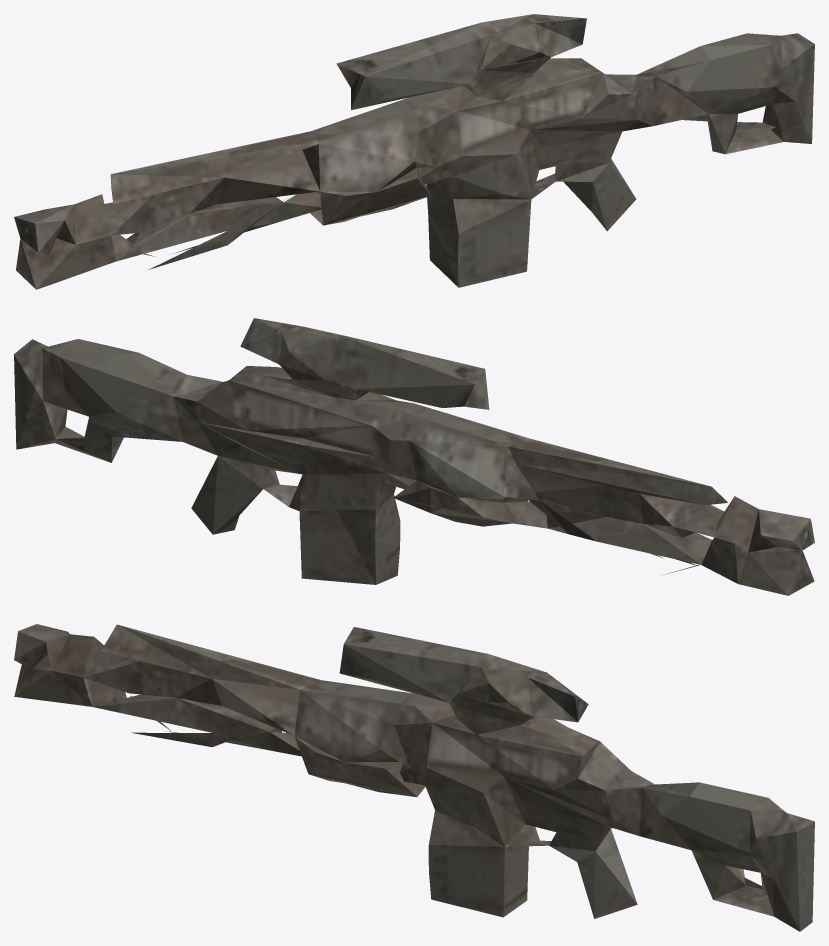
The model's file is prop.rifle_ranger.glb.
3 renders of one model, top to bottom at view 1: azimuth 30°, elevation 25°; view 2: azimuth 150°, elevation 25°; view 3: azimuth 330°, elevation 25°, orthographic.
Visible parts, largest first — view 1: body; view 2: body; view 3: body.
Boxes of the visible parts, <box> form: body: <box>14,14,814,289</box>; body: <box>14,318,814,595</box>; body: <box>14,624,814,931</box>.
Size of the model in its own units: 0.5995 by 0.1793 by 0.0444.
Materials: 1 (1 with a texture image).
